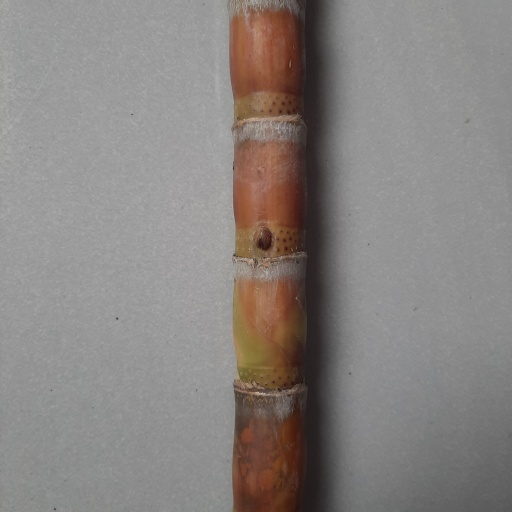Bud: (250, 225, 274, 252)
